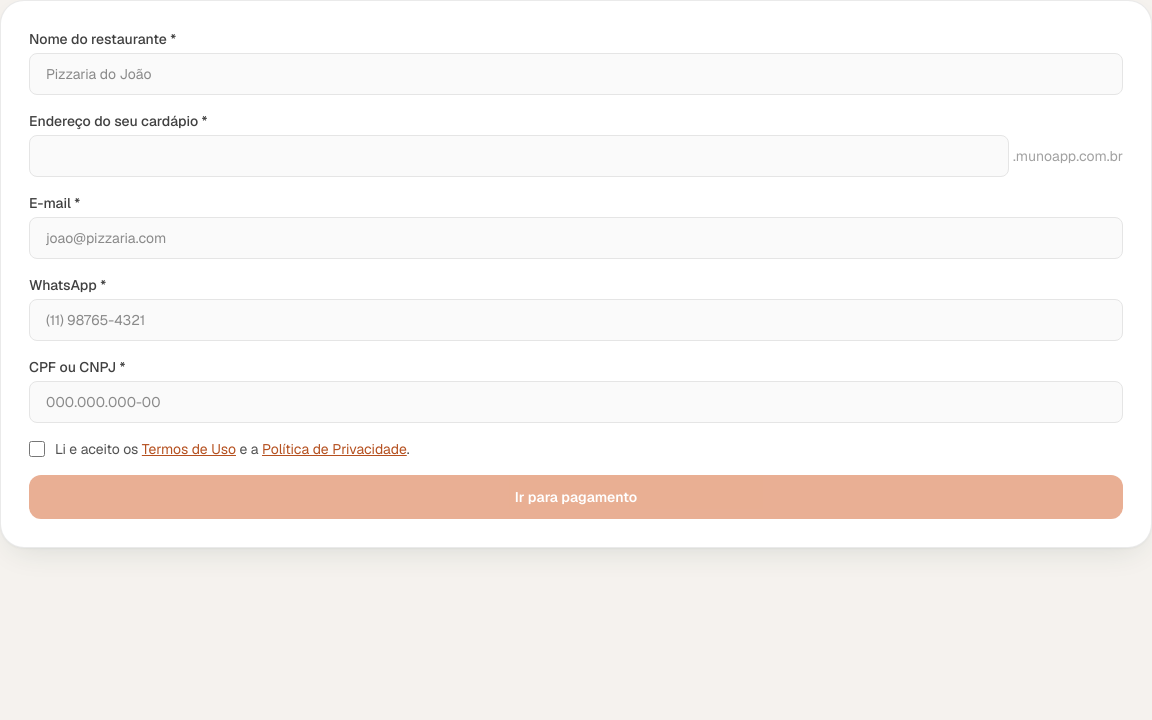
Test: FormularioAssinatura: aceite dos termos › só libera o botão depois do aceite
Step 1. Type "Pizzaria do Ze" into the field labelled "Nome do restaurante *" → (576, 74), box [29,53,1123,95]
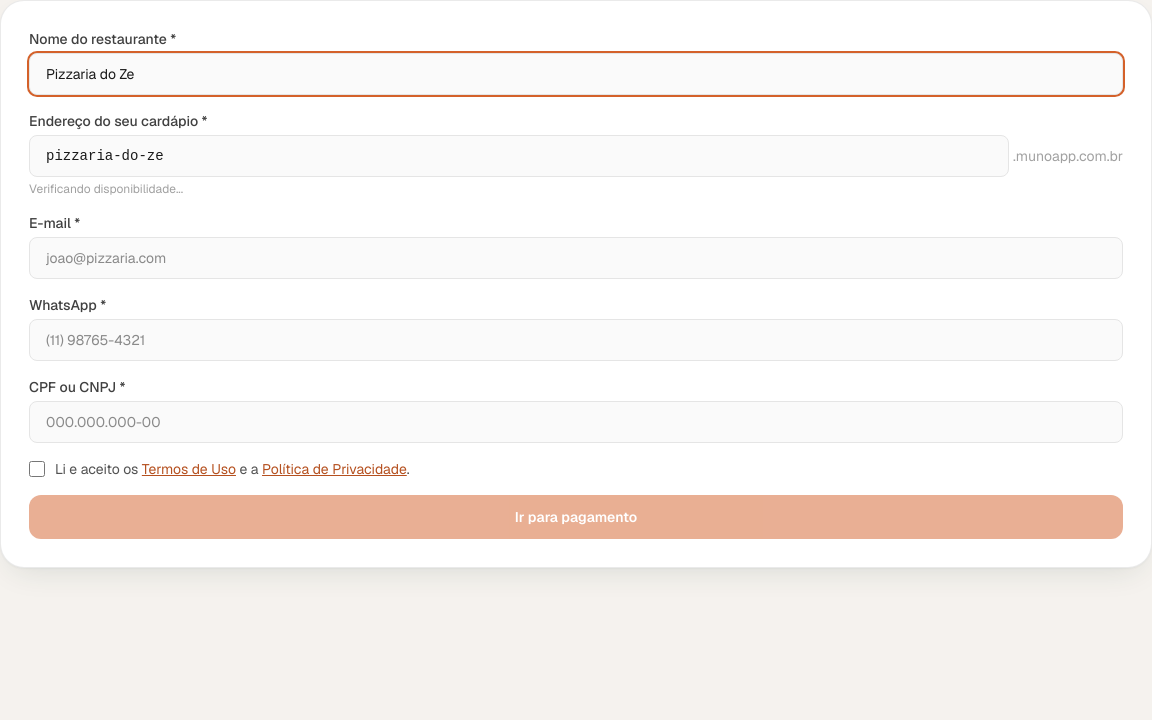
Step 2. Type "dono@pizzaria.com" into the field labelled "E-mail *" → (576, 258), box [29,237,1123,279]
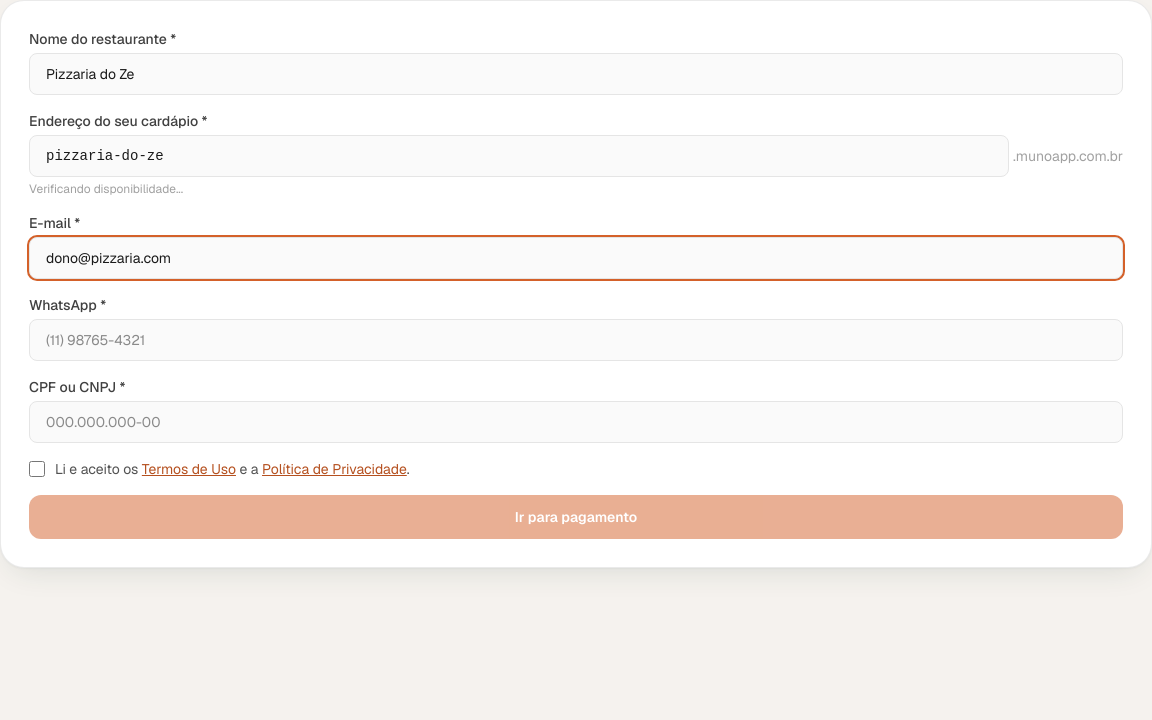
Step 3. Type "11987654321" into the field labelled "WhatsApp *" → (576, 340), box [29,319,1123,361]
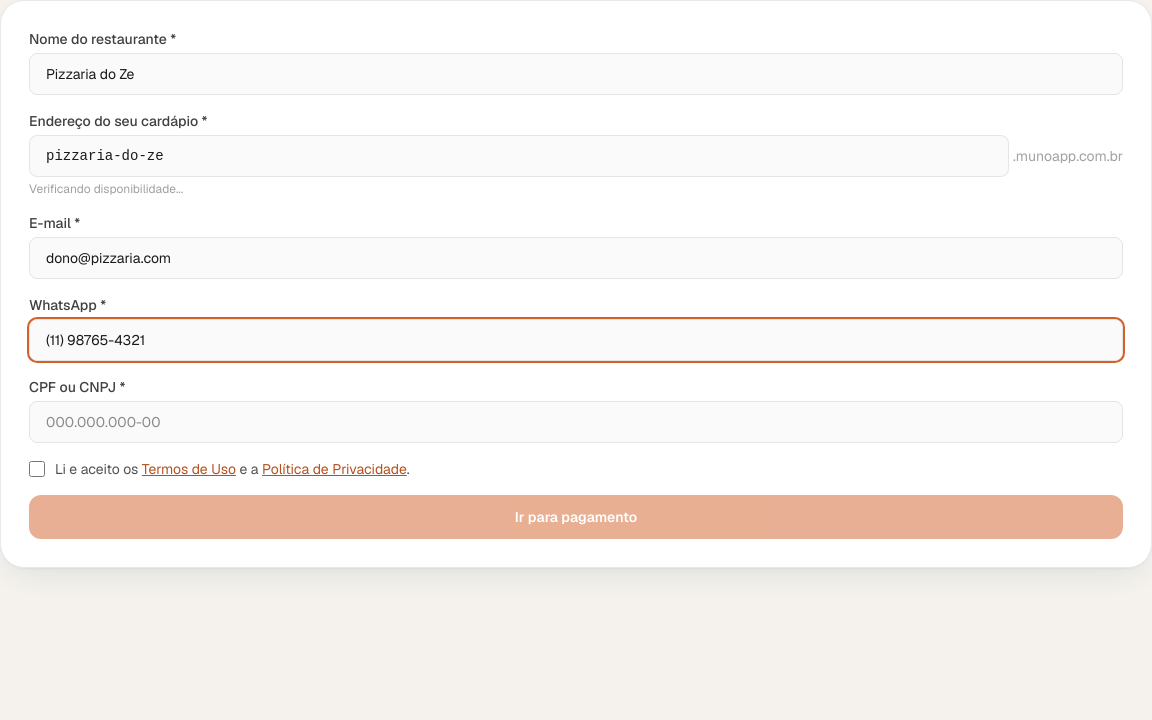
Step 4. Type "24971563792" into the field labelled "CPF ou CNPJ *" → (576, 422), box [29,401,1123,443]
Wait 500 ms
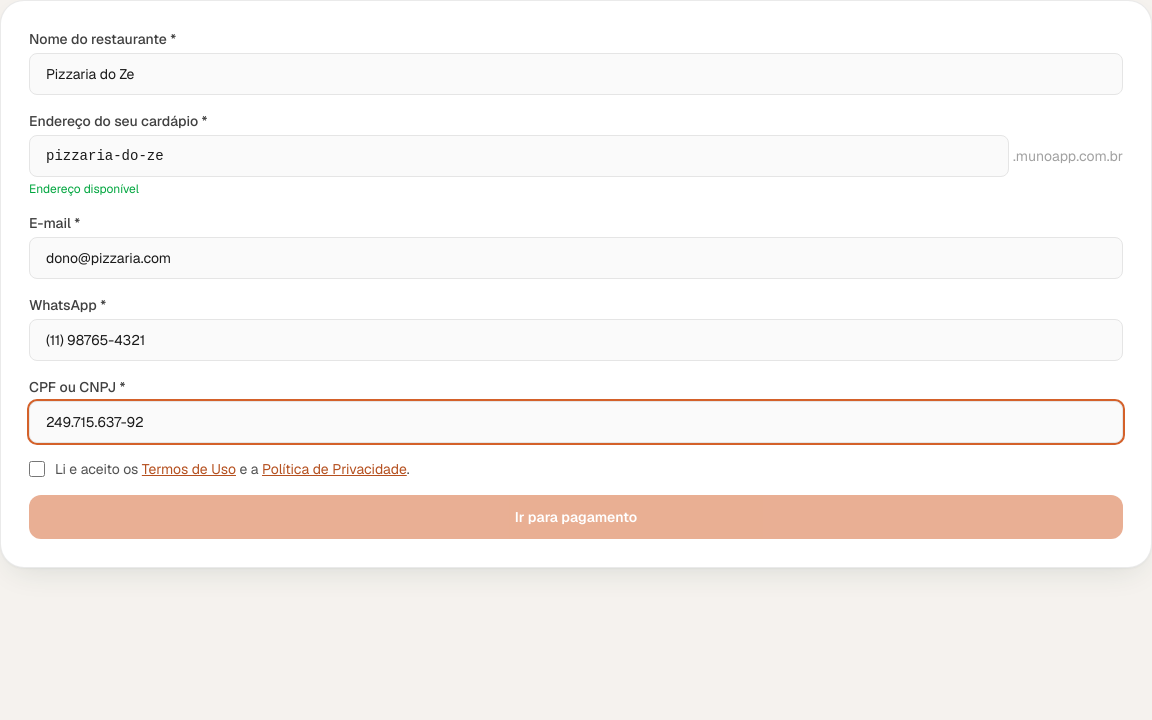
Expected: the text "Endereço disponível" is shown, [29,181,139,197]
Step 5. Click the checkbox labelled "Li e aceito os Termos de Uso e a Política de Privacidade ." → (37, 469), box [29,461,45,477]
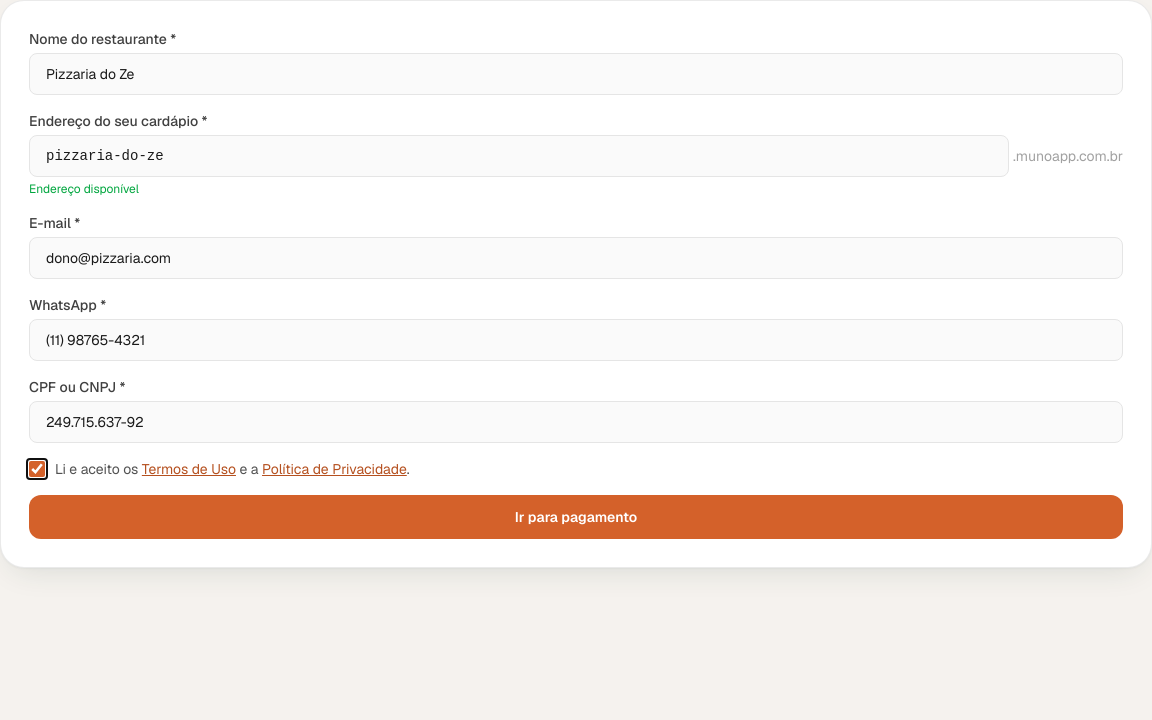
Expected: the button "Ir para pagamento" is enabled, [29,495,1123,539]
Step 6. Click the checkbox labelled "Li e aceito os Termos de Uso e a Política de Privacidade ." → (37, 469), box [29,461,45,477]
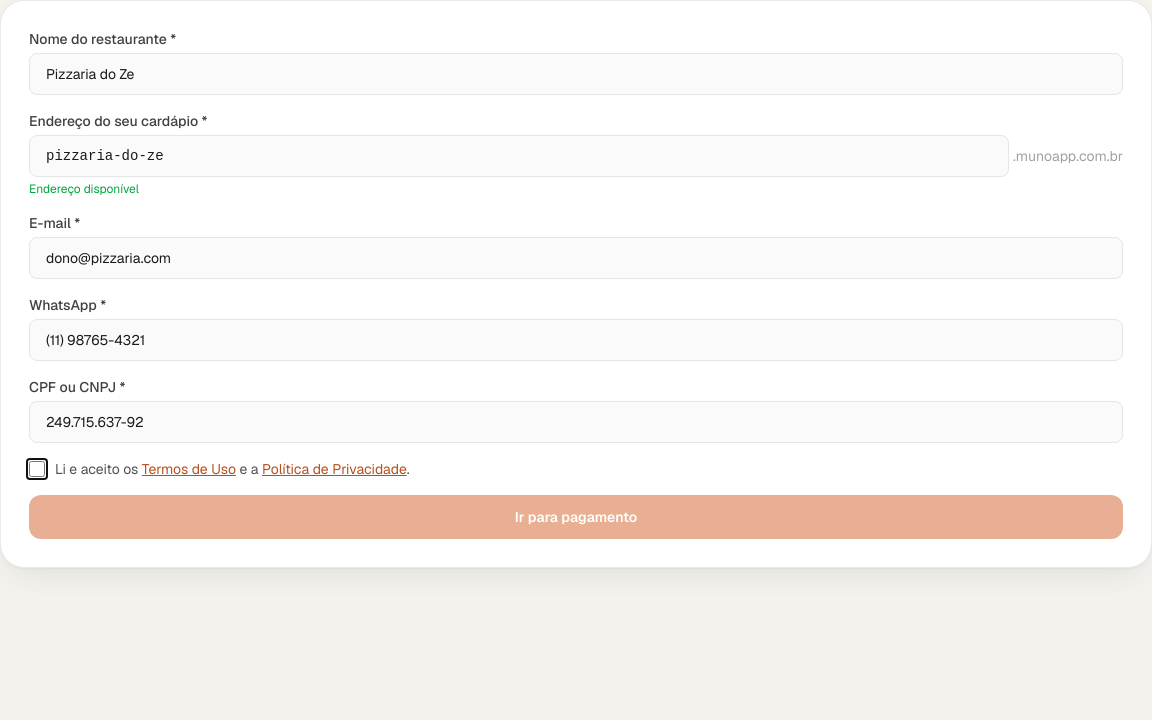
Expected: the button "Ir para pagamento" is disabled, [29,495,1123,539]
